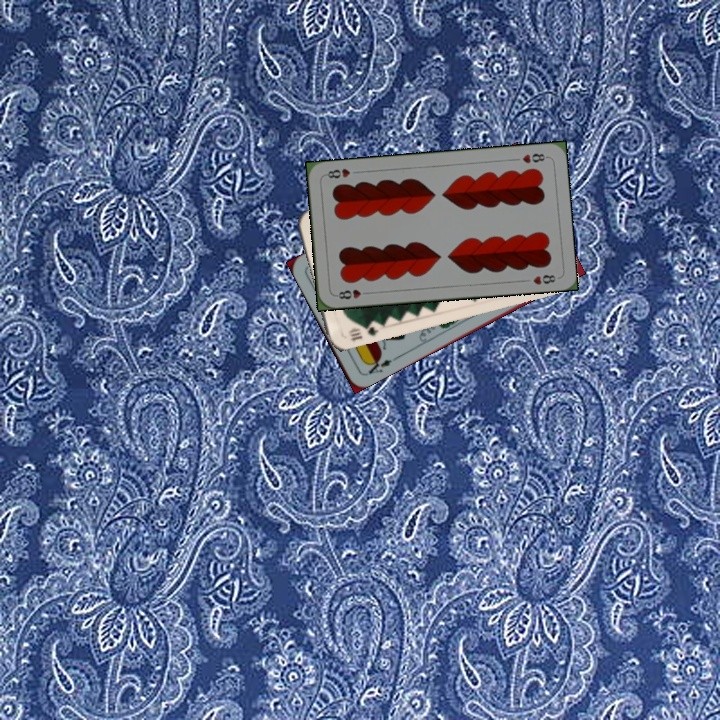EA: (361, 353, 399, 378)
G10: (344, 319, 381, 344)
H8: (332, 285, 372, 302), (518, 149, 550, 166)
